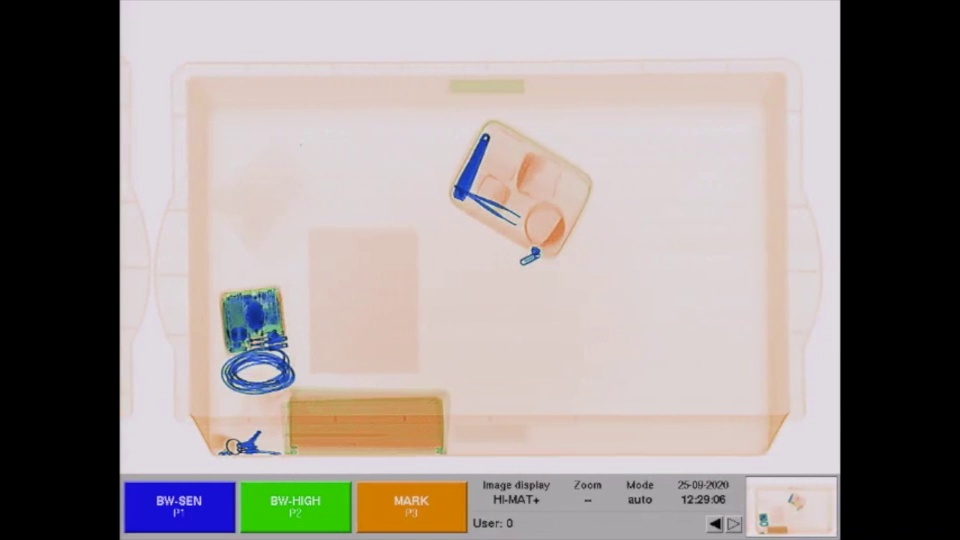tray_img: (157, 52, 825, 460)
